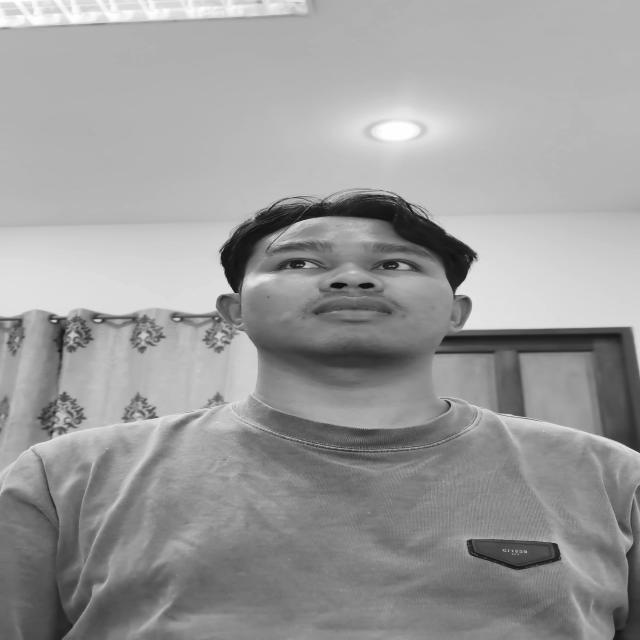ear: (216, 293, 244, 331), (447, 295, 472, 333)
